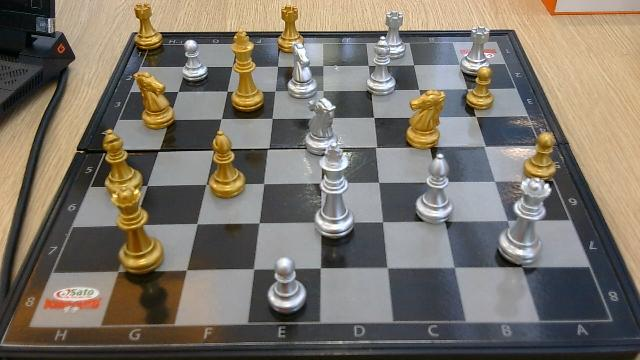black_bishop: (100, 129, 146, 196), (208, 131, 247, 199)
black_king: (228, 27, 266, 114)
black_knight: (405, 88, 448, 150), (133, 69, 176, 130)
black_pawn: (523, 129, 558, 181), (465, 66, 498, 112)
black_queen: (110, 185, 168, 278)
black_rook: (132, 0, 163, 53), (277, 2, 307, 54)
white_bishop: (415, 152, 454, 227), (365, 34, 397, 99)
white_king: (313, 141, 356, 241)
white_knight: (303, 96, 340, 159), (285, 40, 318, 100)
white_pawn: (267, 257, 308, 316), (180, 39, 210, 84)
white_queen: (500, 173, 555, 268)
white_rook: (459, 23, 497, 78), (381, 10, 407, 61)
